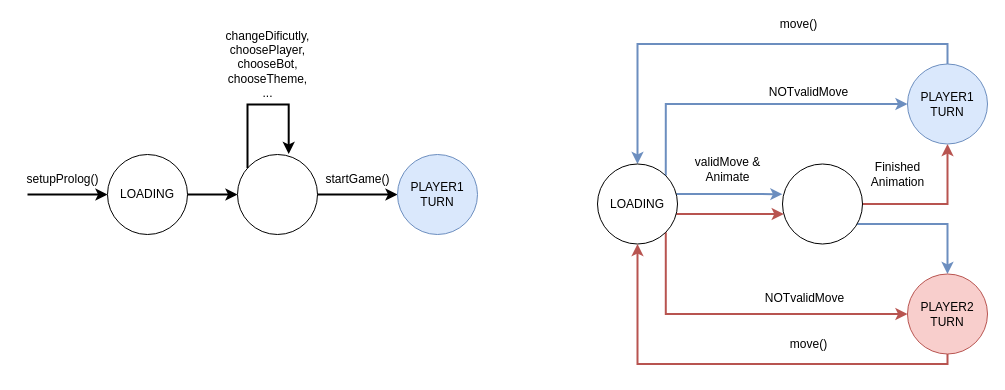
Some shapes in this 1005 by 390 pixel diagram are drawn without their labels. The shapes that lost their labels are listed below. From the top down, each one's box as (x1, y1, x2, y2) in pixels, then its label:
(236, 154, 318, 234): MENU
(782, 163, 862, 244): MOVING PIECE
